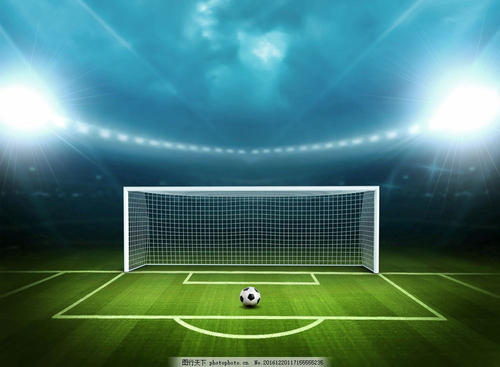football: (238, 282, 266, 311)
